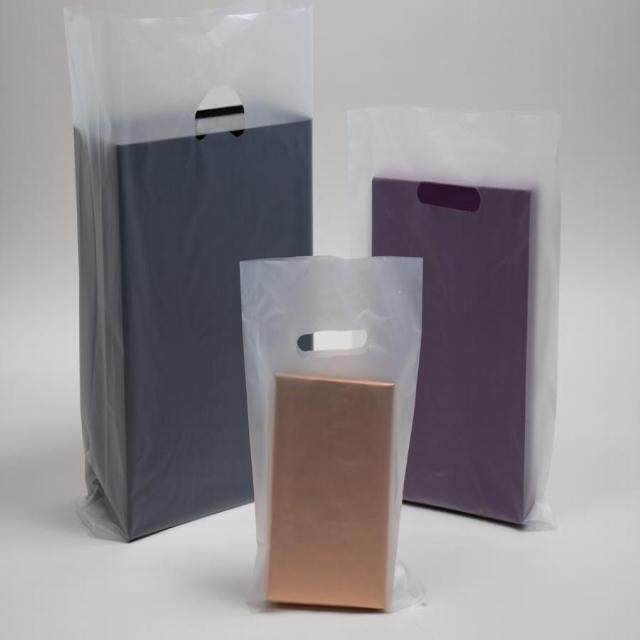plastic_bag: (67, 20, 311, 519), (354, 119, 545, 513), (239, 261, 411, 610)
